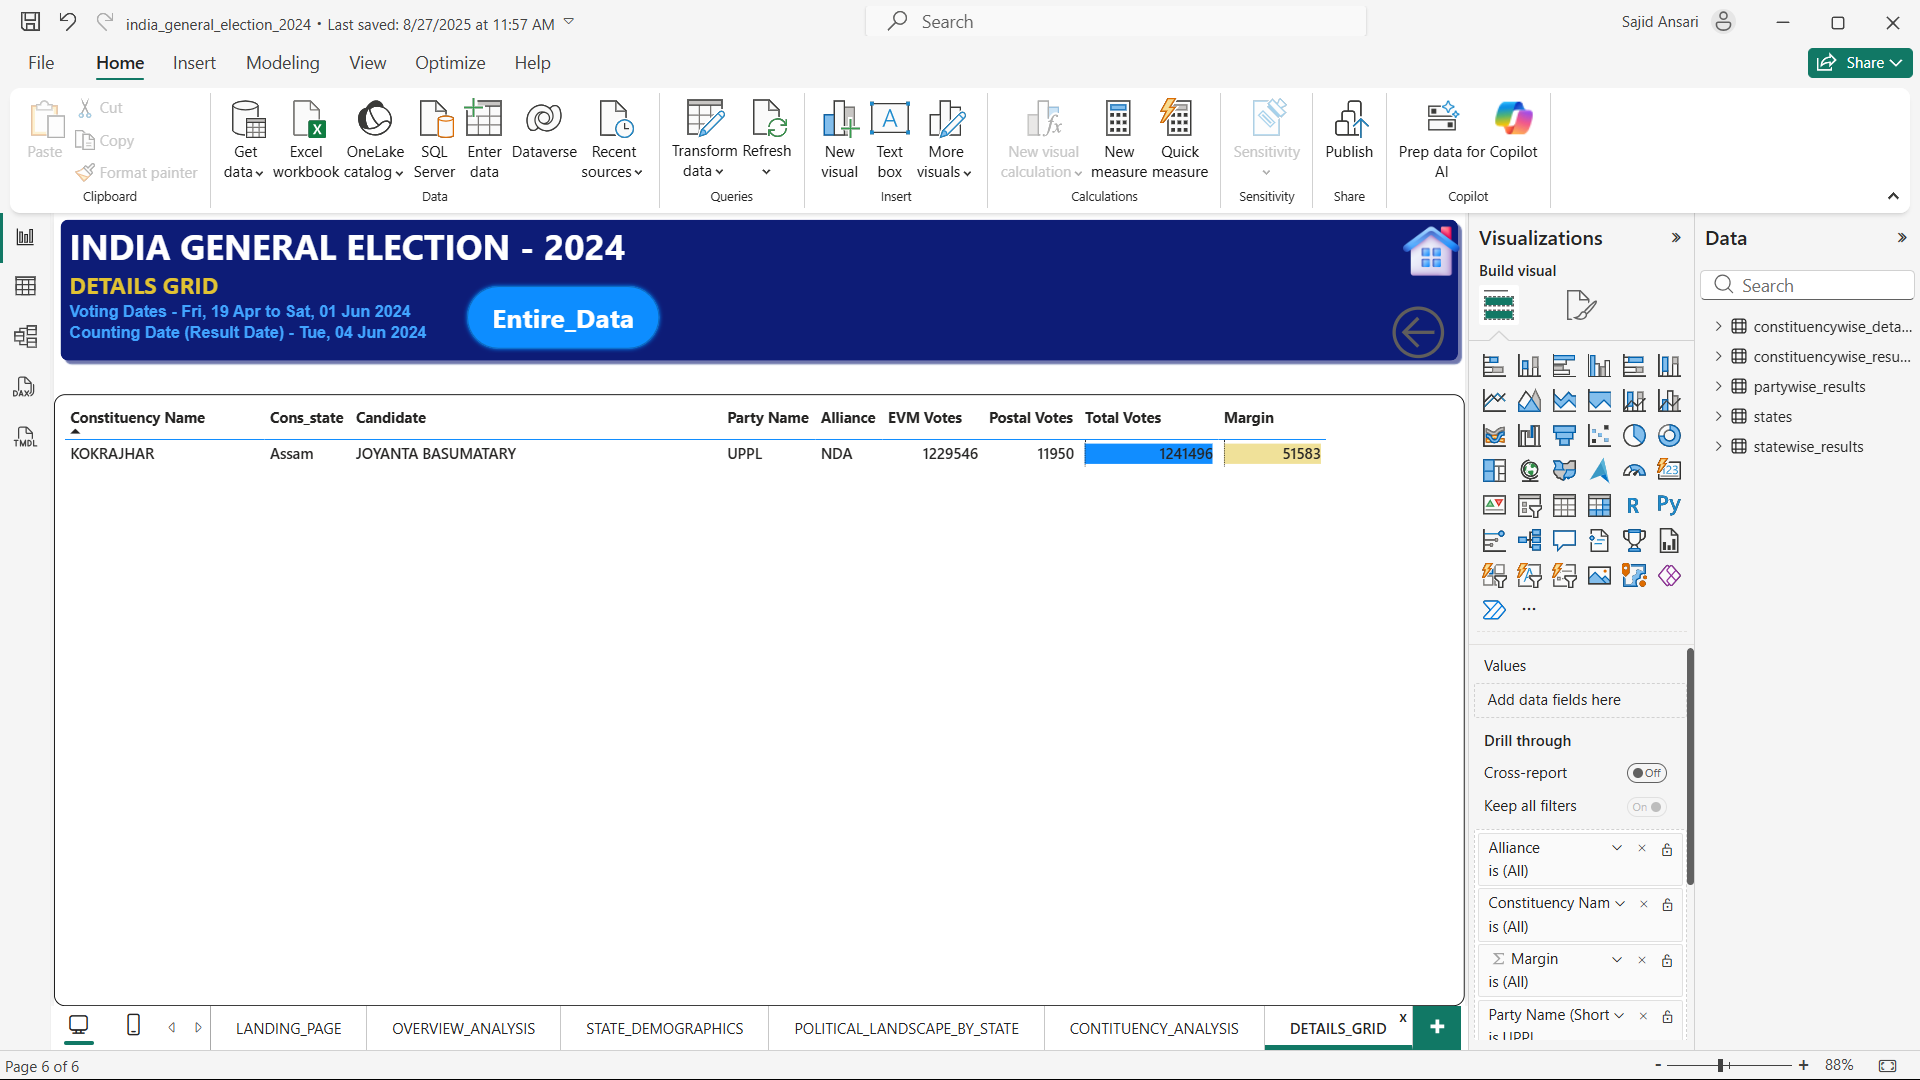

What the dashboard file says about the page in this screenshot:
{"tool":"powerbi","page":{"name":"DETAILS_GRID","canvas":[1280,720],"ordinal":5},"visuals":[{"type":"shape","box":[0,0,1280,140],"z":0},{"type":"textbox","box":[9.4,3.5,582.4,136.5],"z":1000},{"type":"tableEx","fields":{"Values":["constituencywise_results.Constituency Name","statewise_results.Cons_state","constituencywise_results.Winning Candidate","constituencywise_results.Party Short Name","constituencywise_results.Alliance","Sum(constituencywise_details.EVM Votes)","Sum(constituencywise_details.Postal Votes)","Sum(constituencywise_details.Total Votes)","Sum(constituencywise_results.Margin)"]},"box":[0,164.7,1280,555.3],"z":2000},{"type":"actionButton","box":[1208.2,78.8,71.8,60],"z":3000},{"type":"shape","box":[370.6,62.4,182.4,64.7],"z":4000},{"type":"image","box":[1218.8,3.5,61.2,62.4],"z":5000}]}

Visuals, with their boxes on the page's 1280x720 design canvas (x1, y1, x2, y2). These are canvas units, not pixel positions in the 1920x1080 screenshot, which may show the page scaled, cropped or inside an application window:
shape: x1=0, y1=0, x2=1280, y2=140
textbox: x1=9, y1=4, x2=592, y2=140
tableEx - constituencywise_results.Constituency Name x statewise_results.Cons_state: x1=0, y1=165, x2=1280, y2=720
actionButton: x1=1208, y1=79, x2=1280, y2=139
shape: x1=371, y1=62, x2=553, y2=127
image: x1=1219, y1=4, x2=1280, y2=66
